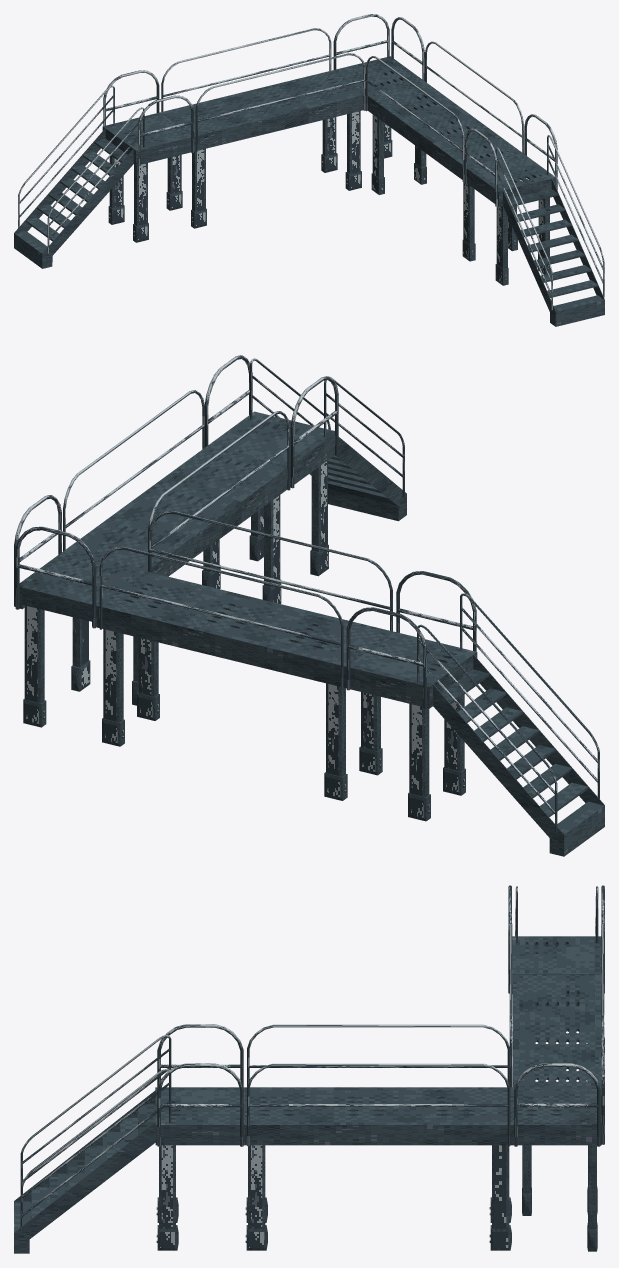
File: CatwalkExample.fbx
The picture shows the model from 3 angles, top to bottom: view 1: azimuth 30°, elevation 25°; view 2: azimuth 150°, elevation 25°; view 3: azimuth 270°, elevation 25°; orthographic projection. The views are drawn at different scales.
Parts seen in each view (by area): view 1: CatPlat1.001, catStair.003, catStair.001, CatPlat1.002, CatPlat1.004, CatSupportBeam.005, catPlat3Rail.004, CatSupportBeam.012, CatSupportBeam.010, CatSupportBeam.013, catPlat3Rail.005, catStairRail.007 (+17 smaller); view 2: CatPlat1.001, catStair.001, CatPlat1.002, catStair.003, CatPlat1.004, CatSupportBeam.006, CatSupportBeam.007, CatSupportBeam.009, CatSupportBeam.008, catPlat3Rail.005, catPlat3Rail.004, catStairRail.005 (+19 smaller); view 3: CatPlat1.002, catStair.003, CatPlat1.001, CatPlat1.004, catStair.001, catPlat3Rail.007, CatSupportBeam.005, CatSupportBeam.004, CatSupportBeam.002, catPlat3Rail.006, catStairRail.007, catStairRail.006 (+6 smaller).
Part boxes in pixels (x1,y1,x2,y2): CatPlat1.001: [161, 70, 363, 151]; catStair.003: [467, 153, 604, 326]; catStair.001: [14, 112, 191, 268]; CatPlat1.002: [367, 80, 522, 179]; CatPlat1.004: [333, 56, 423, 93]; CatSupportBeam.005: [371, 114, 426, 194]; catPlat3Rail.004: [195, 53, 365, 151]; CatSupportBeam.012: [345, 111, 361, 190]; CatSupportBeam.010: [133, 163, 148, 242]; CatSupportBeam.013: [191, 148, 206, 228]; catPlat3Rail.005: [161, 28, 331, 111]; catStairRail.007: [547, 135, 604, 297]; CatPlat1.001: [98, 571, 393, 687]; catStair.001: [346, 632, 604, 856]; CatPlat1.002: [64, 446, 287, 576]; catStair.003: [207, 411, 406, 521]; CatPlat1.004: [19, 551, 145, 627]; CatSupportBeam.006: [23, 605, 46, 727]; CatSupportBeam.007: [102, 629, 124, 746]; CatSupportBeam.009: [408, 704, 430, 821]; CatSupportBeam.008: [324, 683, 347, 800]; catPlat3Rail.005: [99, 547, 343, 688]; catPlat3Rail.004: [148, 511, 392, 631]; catStairRail.005: [460, 593, 599, 798]; CatPlat1.002: [245, 1087, 512, 1145]; catStair.003: [14, 1087, 245, 1253]; CatPlat1.001: [512, 974, 601, 1087]; CatPlat1.004: [512, 1087, 601, 1145]; catStair.001: [512, 936, 601, 1006]; catPlat3Rail.007: [247, 1063, 510, 1146]; CatSupportBeam.005: [489, 1145, 511, 1250]; CatSupportBeam.004: [245, 1145, 267, 1250]; CatSupportBeam.002: [156, 1145, 178, 1250]; catPlat3Rail.006: [247, 1024, 510, 1086]; catStairRail.007: [20, 1069, 171, 1234]; catStairRail.006: [20, 1035, 171, 1186].
Size of the model in its own units: 1327 by 1324 by 479.
2 materials, 2 textured.
